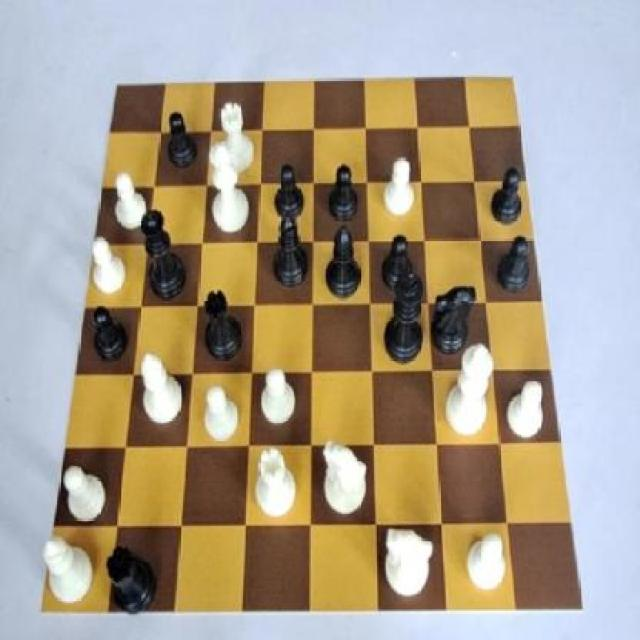bishop: (268, 218, 312, 301), (324, 226, 366, 307)
black-bishop: (381, 271, 434, 375)
black-king: (431, 283, 480, 360)
black-knight: (160, 108, 205, 180), (80, 304, 131, 366), (483, 166, 528, 231), (380, 231, 422, 297), (496, 228, 532, 302), (326, 163, 361, 229), (271, 162, 308, 222)
black-pawn: (137, 206, 188, 309)
black-queen: (100, 536, 164, 620), (200, 291, 252, 362)
black-rook: (37, 534, 98, 611), (132, 352, 184, 432)
white-bishop: (443, 343, 494, 441)
white-king: (378, 523, 437, 595), (320, 440, 370, 520)
white-knight: (498, 377, 560, 446), (458, 525, 514, 597), (250, 360, 302, 432), (57, 458, 112, 522), (200, 380, 242, 448), (108, 172, 149, 240), (89, 234, 130, 298), (382, 155, 416, 223)
white-pawn: (203, 150, 255, 238)
white-queen: (250, 451, 304, 524), (212, 100, 258, 178)
